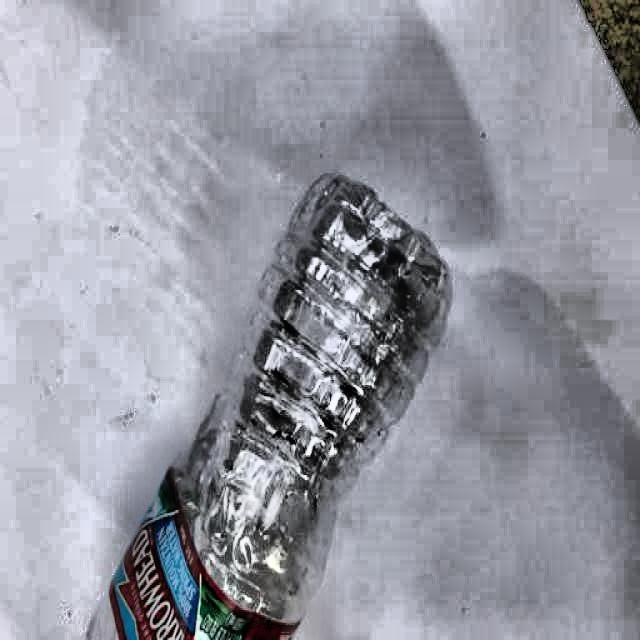plastic: (106, 174, 454, 640)
